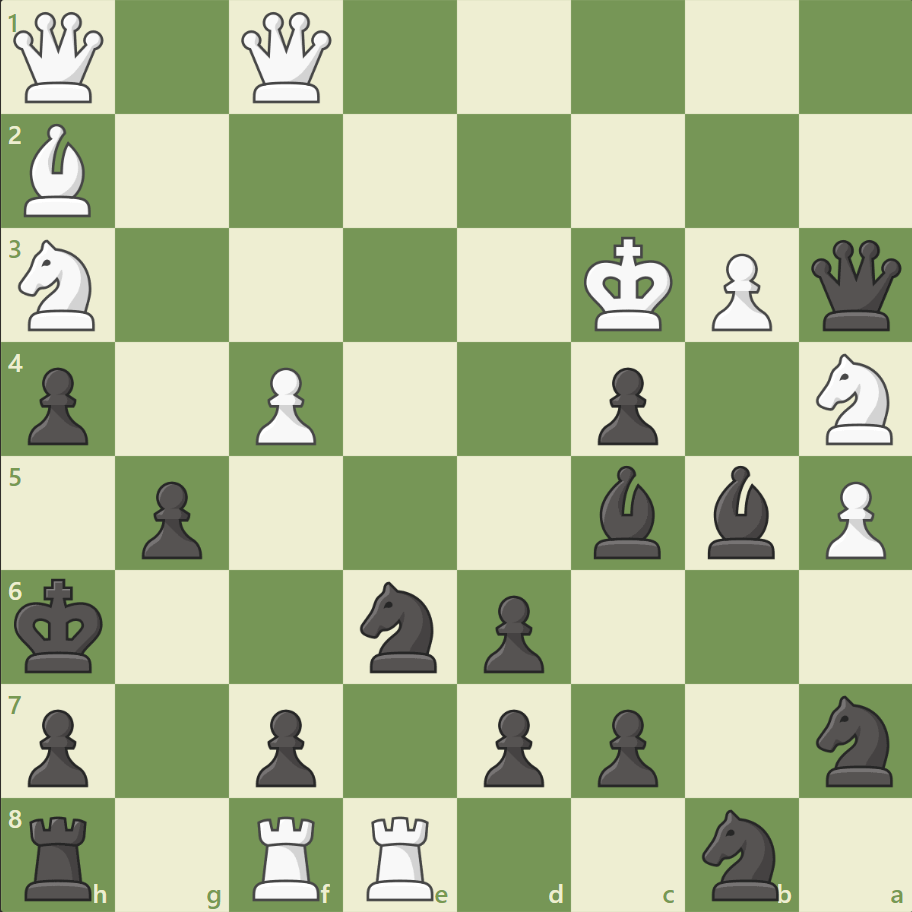B: (17, 120, 101, 222)
K: (579, 231, 679, 339)
N: (11, 234, 108, 337), (806, 348, 903, 450)
P: (247, 359, 322, 450), (701, 246, 776, 337), (815, 473, 889, 564)
Q: (237, 9, 336, 108), (10, 9, 109, 108)
R: (246, 806, 329, 904), (360, 806, 442, 904)
b: (698, 460, 782, 563), (585, 460, 669, 563)
k: (11, 571, 111, 679)
n: (351, 575, 449, 677), (806, 688, 903, 791), (692, 802, 789, 904)
p: (474, 700, 549, 791), (247, 700, 322, 791), (20, 700, 95, 791), (474, 586, 549, 677), (133, 473, 208, 564), (20, 359, 95, 450), (588, 700, 662, 791), (588, 359, 662, 450)
q: (805, 236, 904, 335)
r: (19, 806, 102, 904)
